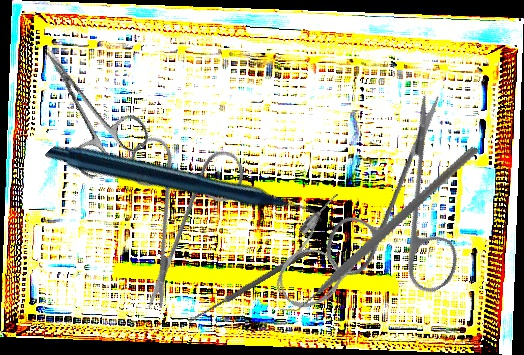Cannula: (258, 189, 387, 322)
Chopper: (273, 106, 480, 351)
Handpiece: (44, 44, 324, 330)
Iris Scissors: (281, 90, 524, 330), (72, 104, 284, 314), (18, 29, 154, 182)
Surgical Spoon: (187, 246, 312, 325)
